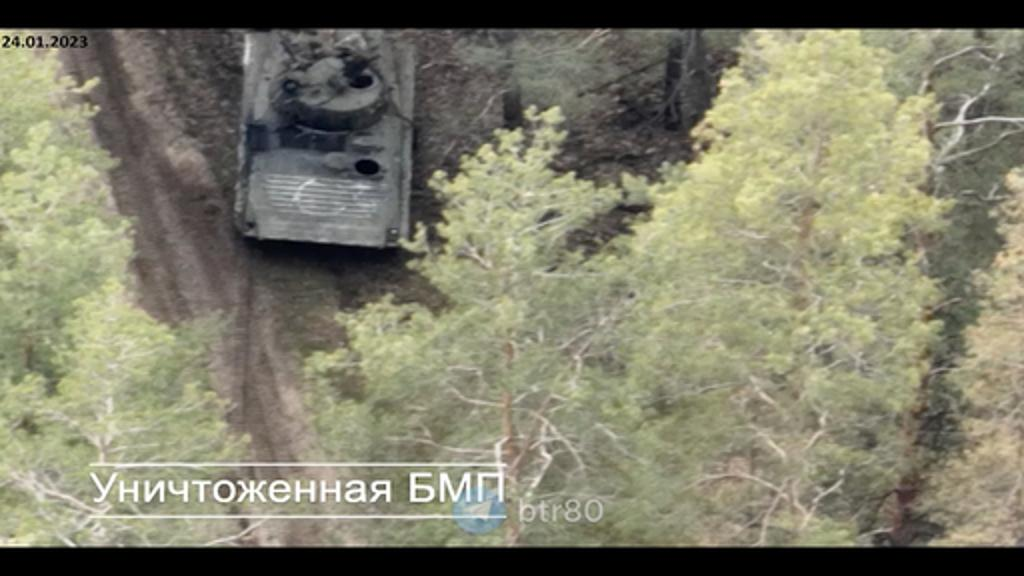APC-IFV: (222, 22, 422, 250)
